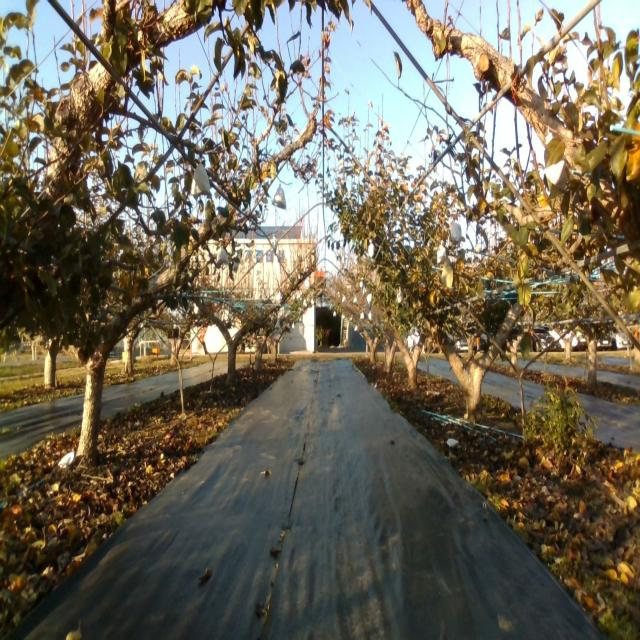pearbags: (190, 162, 212, 195), (544, 158, 566, 189), (272, 184, 287, 212), (436, 239, 447, 264), (217, 246, 230, 266), (451, 222, 462, 245)
